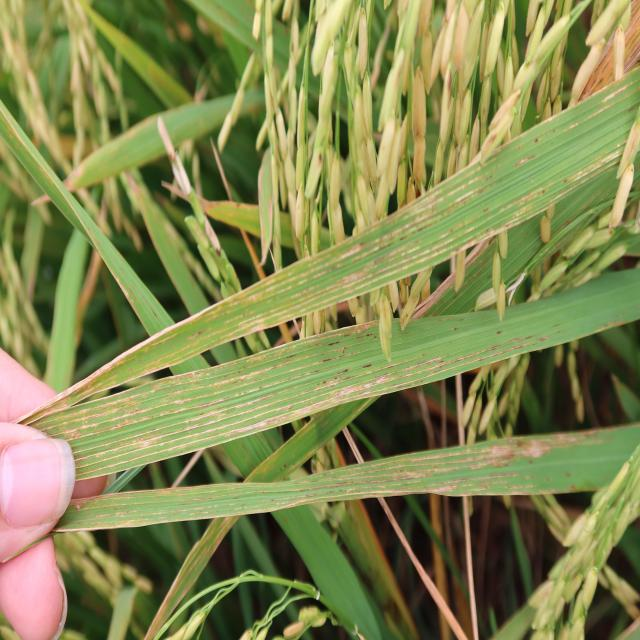Dom soc vi khuan: (28, 70, 640, 421), (24, 295, 591, 477), (411, 431, 606, 473), (390, 469, 434, 482), (423, 484, 458, 494)
